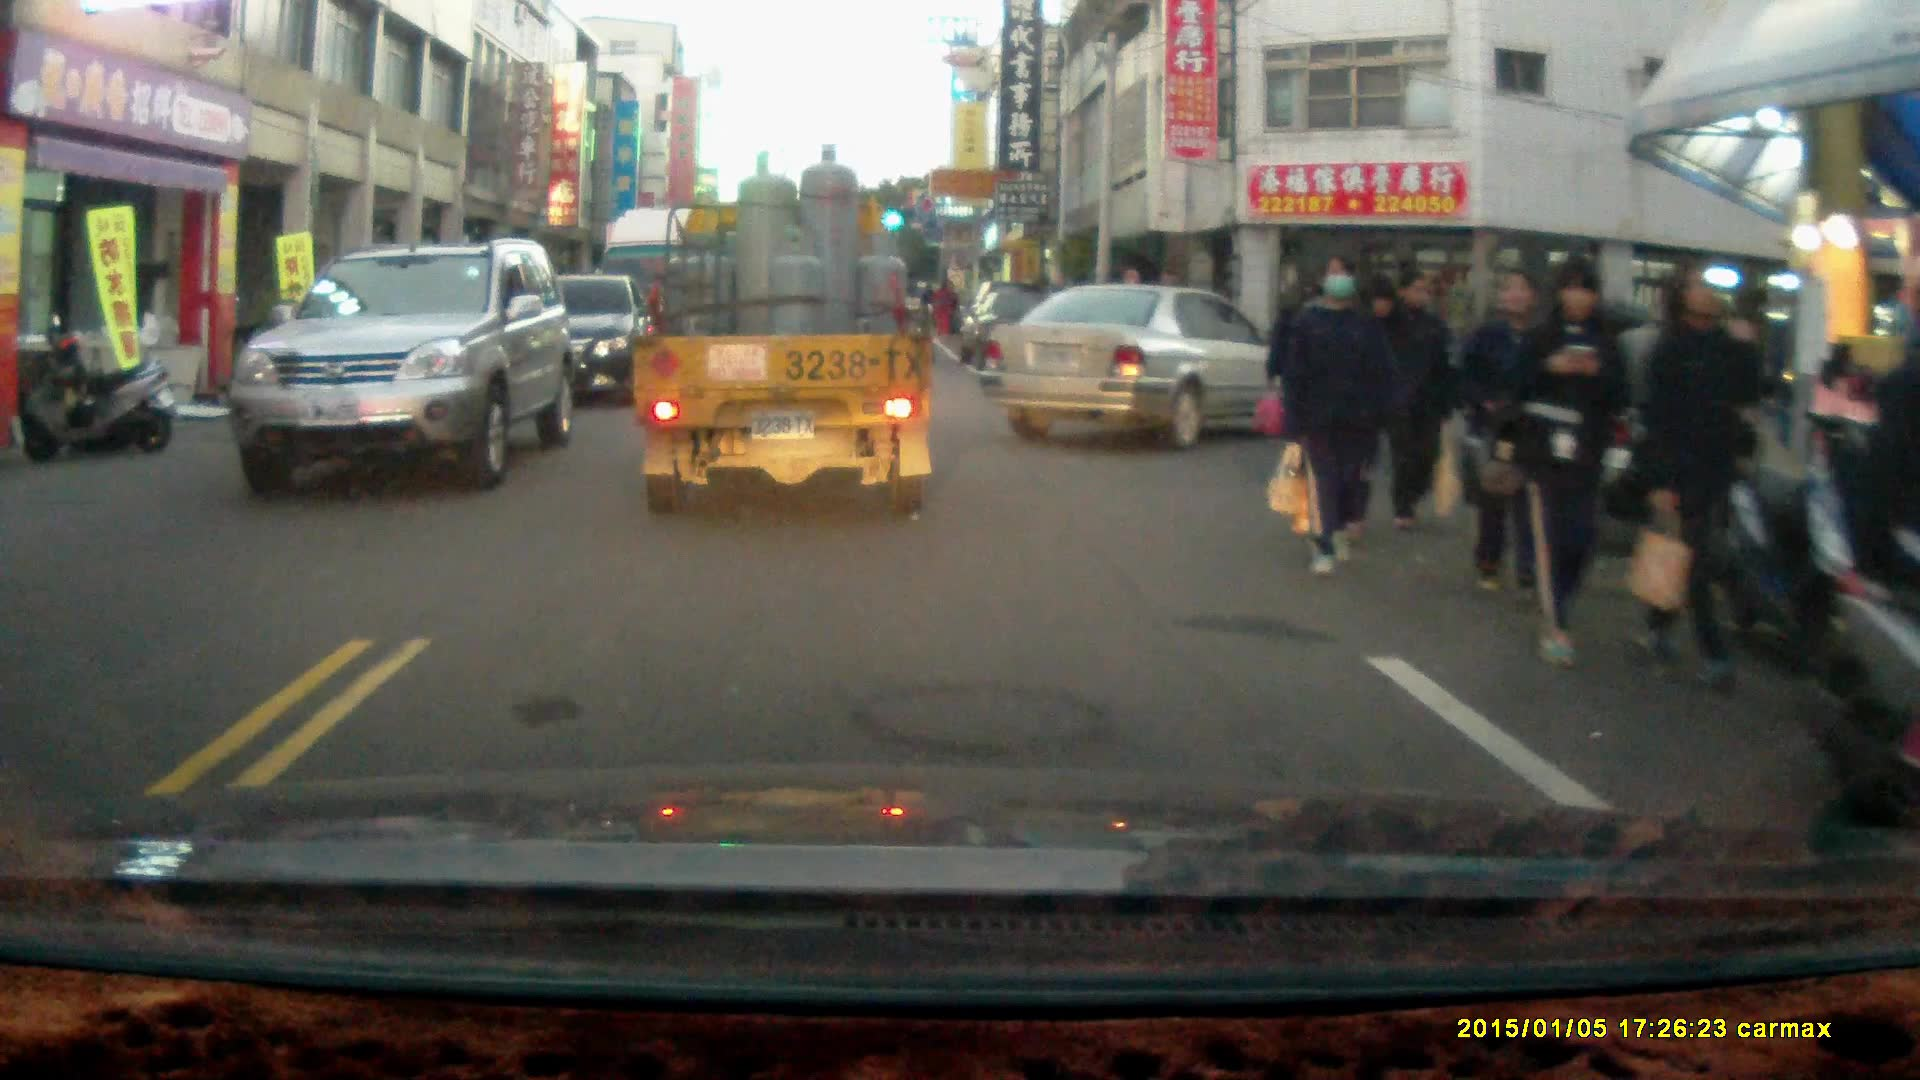pedestrian: (1641, 259, 1766, 689), (1505, 247, 1625, 665), (1281, 253, 1377, 577), (1457, 267, 1544, 594), (1375, 264, 1458, 536)
rider: (1807, 284, 1920, 838)
vehicle: (632, 147, 949, 522), (230, 240, 576, 496), (975, 283, 1326, 450), (460, 273, 662, 415), (600, 204, 745, 391), (956, 278, 1094, 368)
